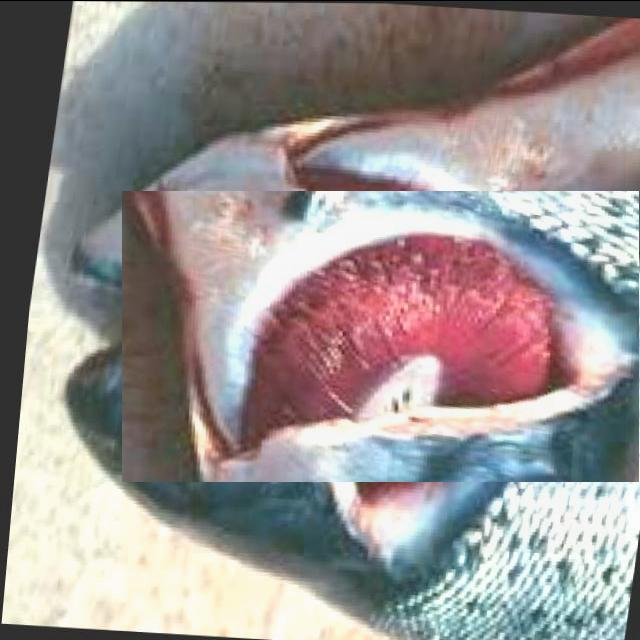Gill Disease: (193, 119, 626, 552)
